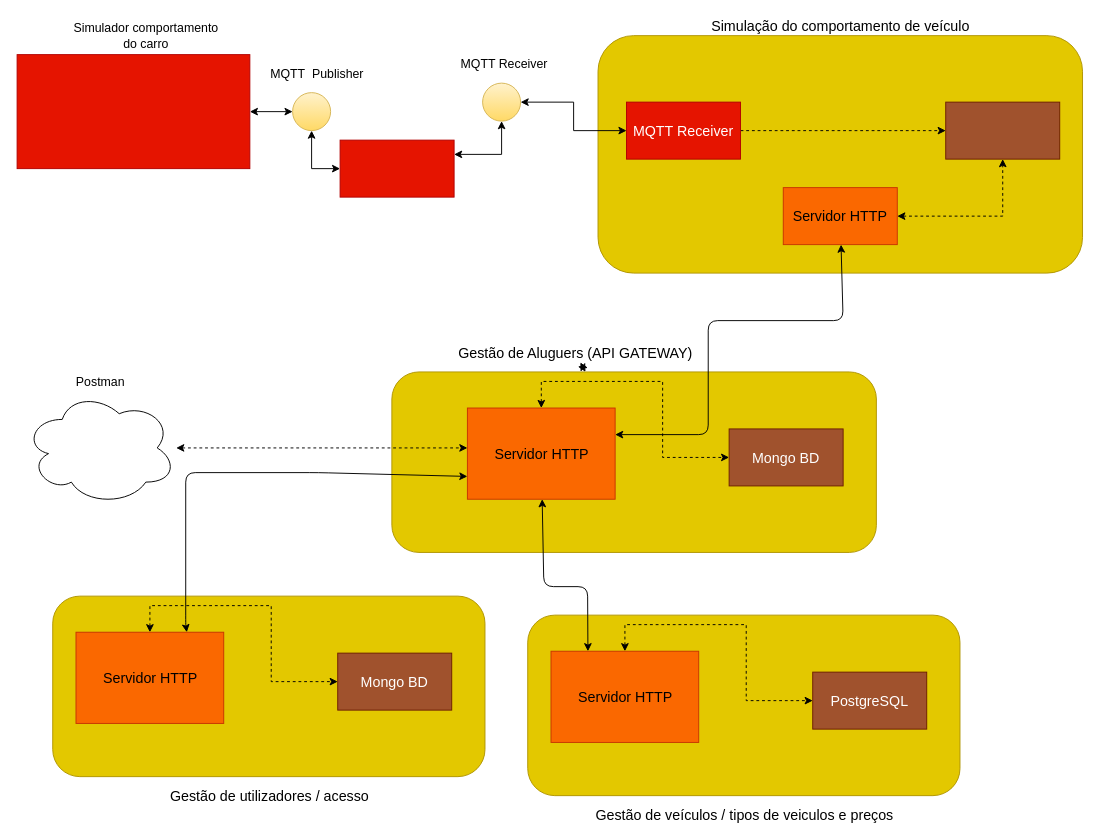
This 1099x840 diagram has some shape labels left out. Each missing label, with the centre of its shape:
Cliente: (99,447)
Mosquito: (396,168)
Neo4j: (1002,130)
Node Red: (133,111)
